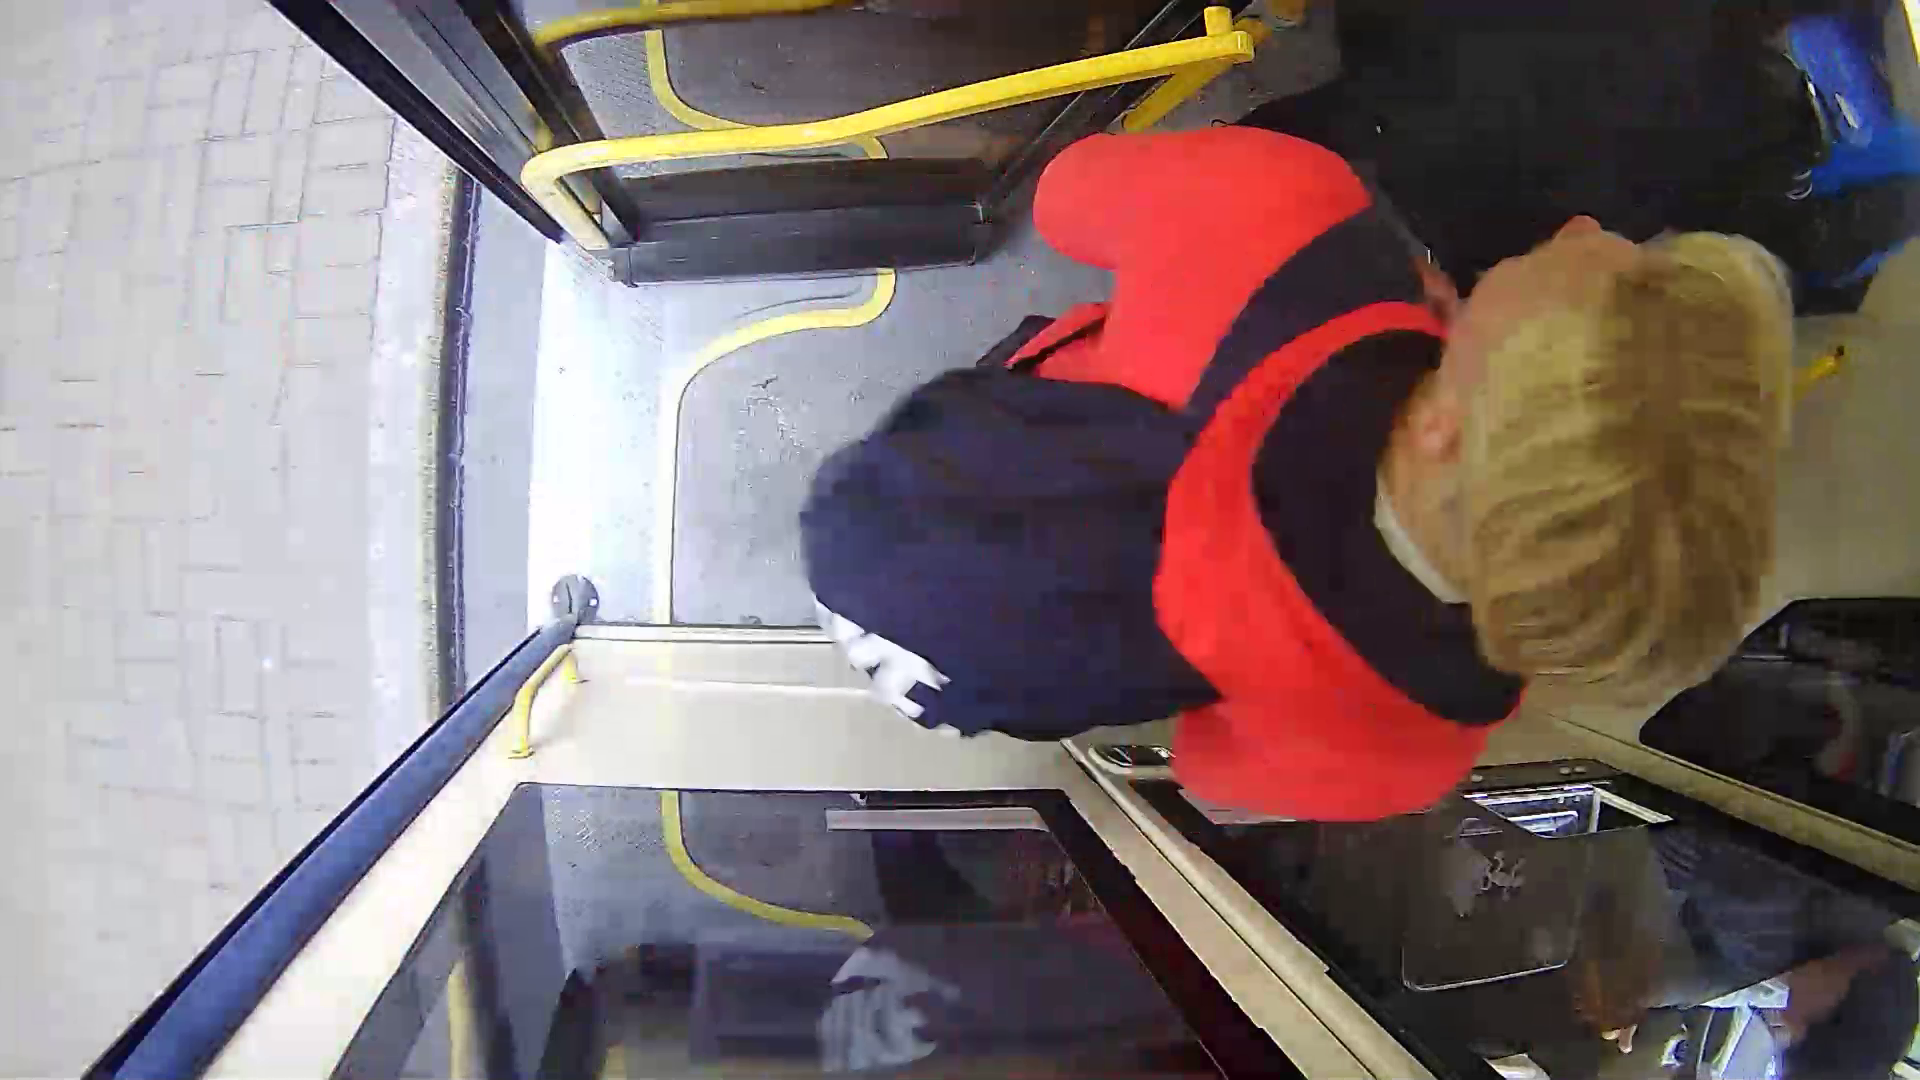person: (859, 101, 1816, 801)
